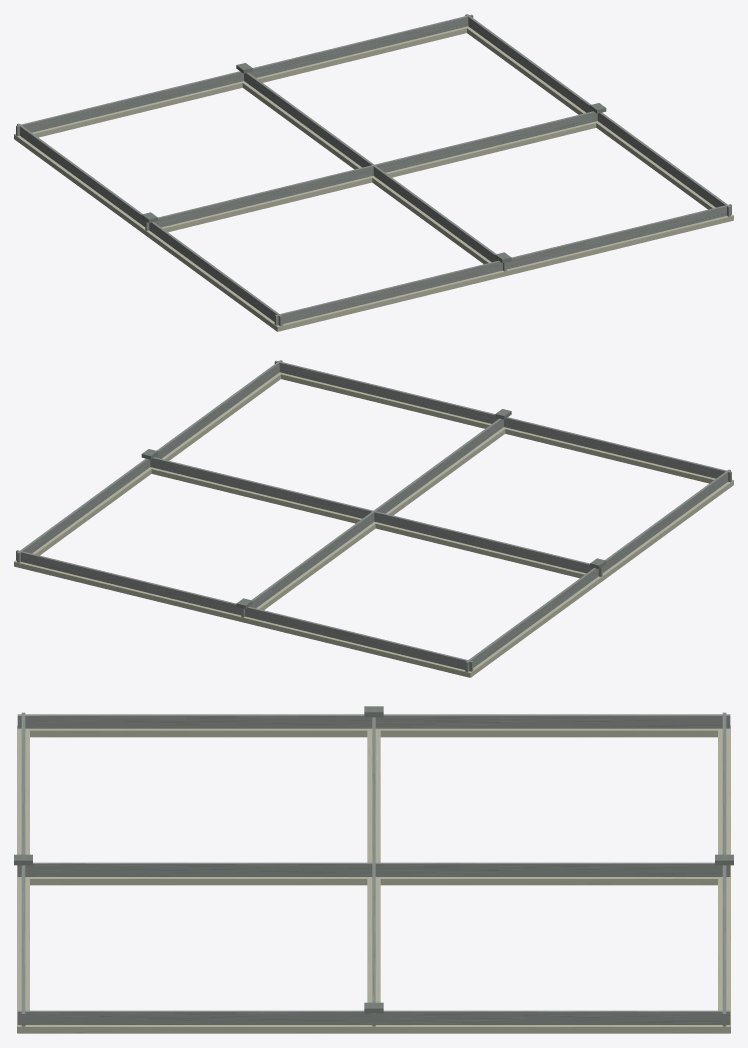
Rendered from suspended_ceiling_exposed_grid.glb.
The picture shows the model from 3 angles, top to bottom: view 1: azimuth 30°, elevation 25°; view 2: azimuth 150°, elevation 25°; view 3: azimuth 270°, elevation 25°; orthographic projection. The views are drawn at different scales.
Visible parts, largest first — view 1: suspended_ceiling_exposed_grid; view 2: suspended_ceiling_exposed_grid; view 3: suspended_ceiling_exposed_grid.
Part boxes in pixels (box(x1,y1,x2,y2)): suspended_ceiling_exposed_grid: box(14, 14, 733, 331); suspended_ceiling_exposed_grid: box(14, 360, 733, 677); suspended_ceiling_exposed_grid: box(14, 706, 733, 1033).
Bounding box in the file's own units: 1.2 × 0.0465 × 1.21.
3 materials, 3 textured.
